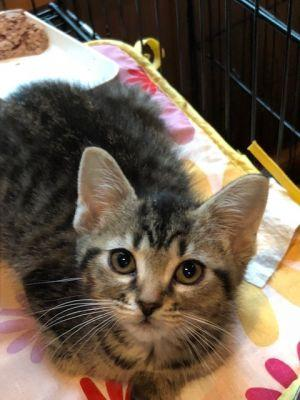bengal: (62, 133, 277, 365)
